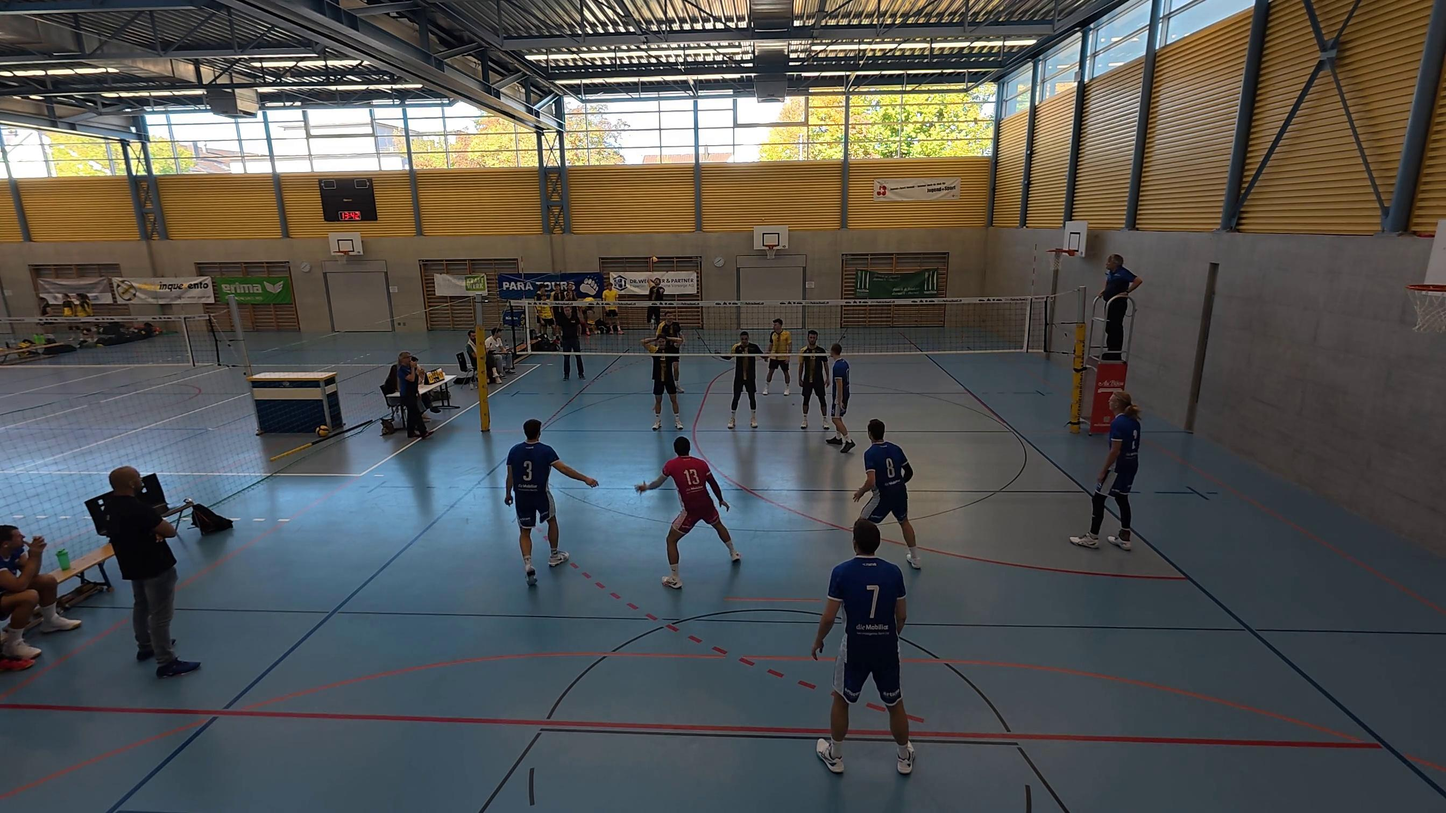battuta: (643, 255, 666, 333)
